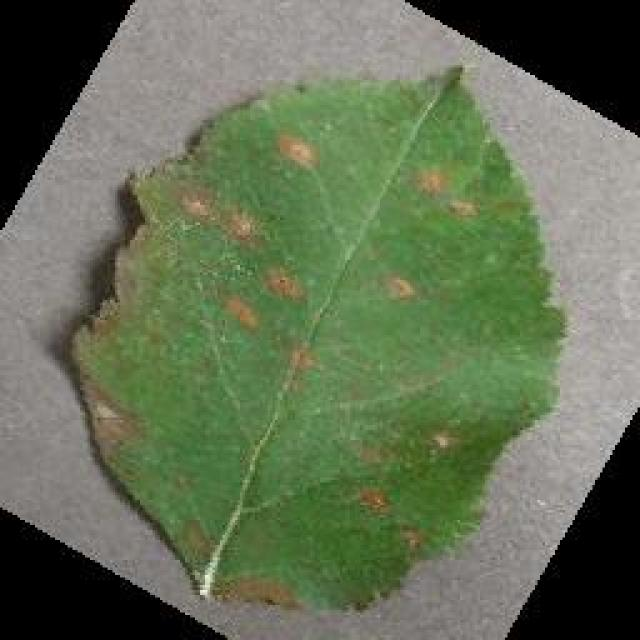apple healthy: (65, 63, 570, 615)
